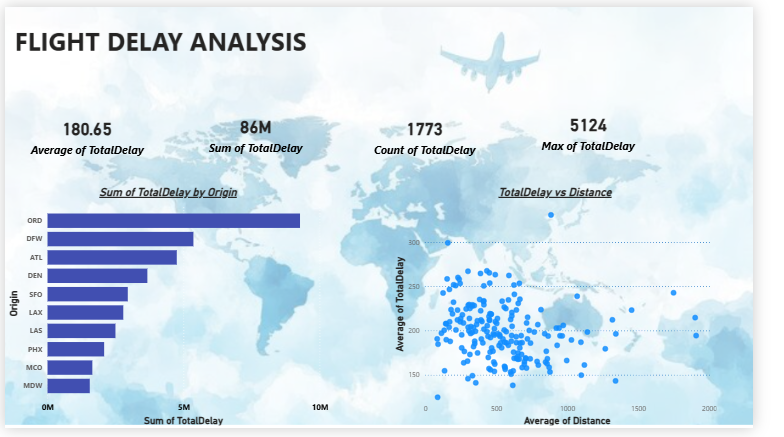

What the dashboard file says about the page in this screenshot:
{"tool":"powerbi","page":{"name":"Page 1","canvas":[1280,720],"ordinal":0},"visuals":[{"type":"card","fields":{"Values":["Avg(cleaned_data.TotalDelay)"]},"box":[0,160,280,120],"z":0},{"type":"card","fields":{"Values":["Sum(cleaned_data.TotalDelay)"]},"box":[280,160,297.5,112.5],"z":1},{"type":"card","fields":{"Values":["Count(cleaned_data.TotalDelay)"]},"box":[577.5,160,280,120],"z":2},{"type":"card","fields":{"Values":["Max(cleaned_data.TotalDelay)"]},"box":[857.5,152.5,280,120],"z":3},{"type":"barChart","fields":{"Category":["cleaned_data.Origin"],"Y":["Sum(cleaned_data.TotalDelay)"]},"box":[0,305,557.5,415],"z":4},{"type":"scatterChart","title":"TotalDelay vs Distance","fields":{"X":["Avg(cleaned_data.Distance)"],"Y":["Avg(cleaned_data.TotalDelay)"],"Category":["cleaned_data.Origin"]},"box":[660,305,562.5,415],"z":5}]}

Visuals, with their boxes in screenshot pixels (x1, y1, x2, y2), scaled from the page's 1280x720 canvas onto the 784x437 screenshot:
card - Avg(cleaned_data.TotalDelay): x1=0, y1=97, x2=172, y2=170
card - Sum(cleaned_data.TotalDelay): x1=172, y1=97, x2=354, y2=165
card - Count(cleaned_data.TotalDelay): x1=354, y1=97, x2=525, y2=170
card - Max(cleaned_data.TotalDelay): x1=525, y1=93, x2=697, y2=165
barChart - cleaned_data.Origin x Sum(cleaned_data.TotalDelay): x1=0, y1=185, x2=341, y2=436
"TotalDelay vs Distance" scatterChart: x1=404, y1=185, x2=749, y2=436
